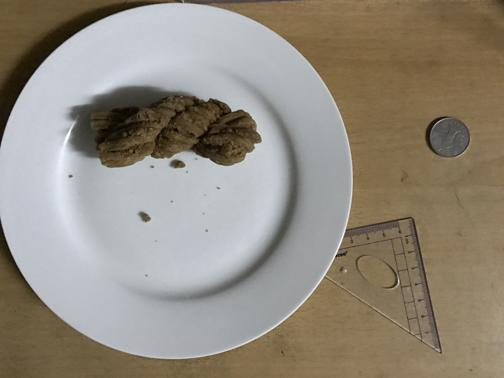coin: (428, 116, 470, 159)
fired_dough_twist: (90, 96, 261, 168)
